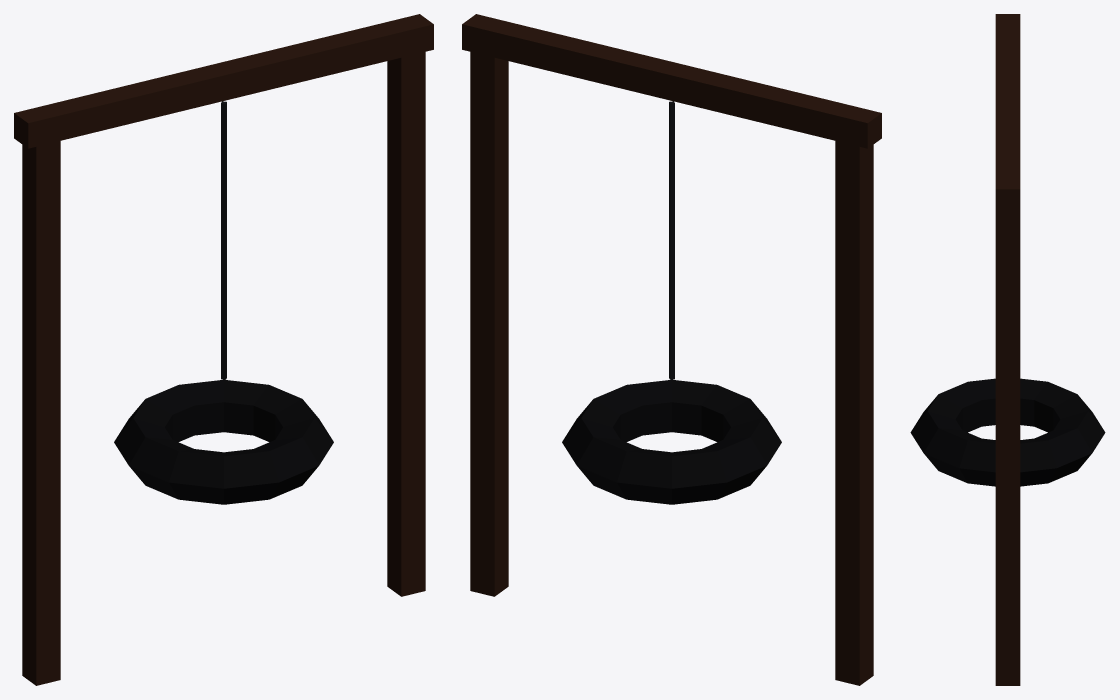
Rendered from tire_swing.obj.
3 renders of one model, left to right at view 1: azimuth 30°, elevation 25°; view 2: azimuth 150°, elevation 25°; view 3: azimuth 270°, elevation 25°, orthographic. The views are drawn at different scales.
Parts seen in each view (by area): view 1: tire_swing; view 2: tire_swing; view 3: tire_swing.
Boxes of the visible parts, <box> form: tire_swing: <box>14,14,433,685</box>; tire_swing: <box>462,14,881,685</box>; tire_swing: <box>910,14,1105,685</box>.
Size of the model in its own units: 2 by 2.66 by 0.94.
